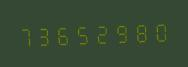eight: (131, 18, 149, 45)
five: (74, 20, 92, 47)
nine: (112, 19, 130, 45)
seven: (17, 22, 35, 49)
six: (55, 21, 73, 47)
three: (36, 22, 54, 48)
two: (93, 20, 111, 46)
zero: (150, 18, 168, 44)
